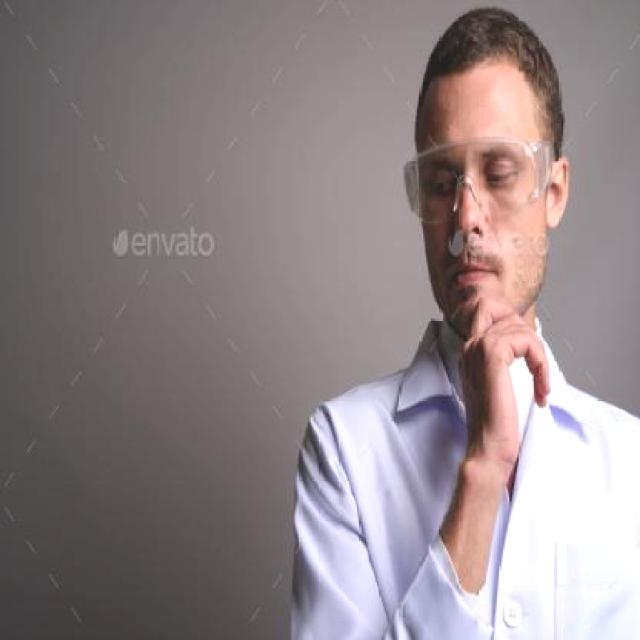face_nomask: (419, 150, 533, 301)
glasses: (399, 137, 556, 229)
hand_noglove: (448, 298, 574, 456)
head_nohelmet: (416, 8, 555, 106)
person: (289, 0, 640, 640)
